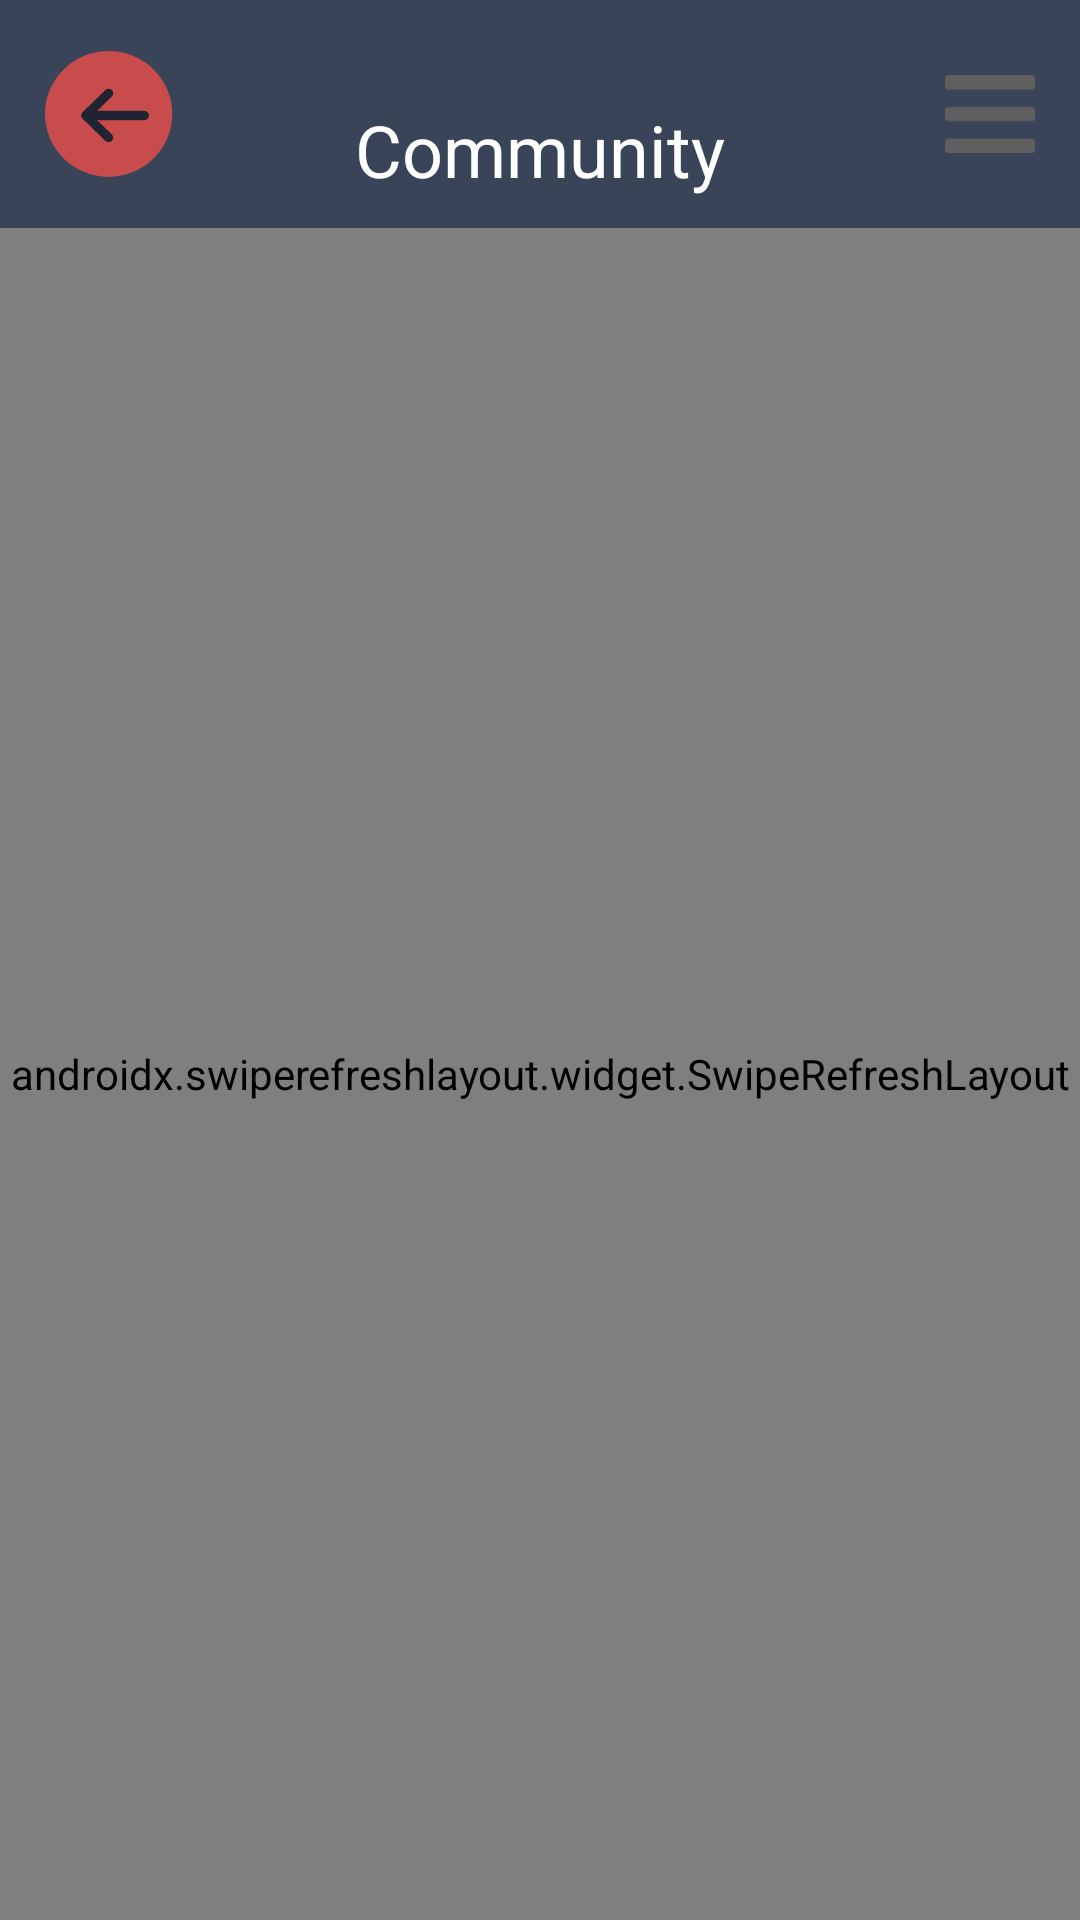

Where icons sit on this 1080w x 1920h app screen, as (x1,y1,x2,y2):
circle arrow left: (45,51,173,177)
menu: (945,75,1035,153)
